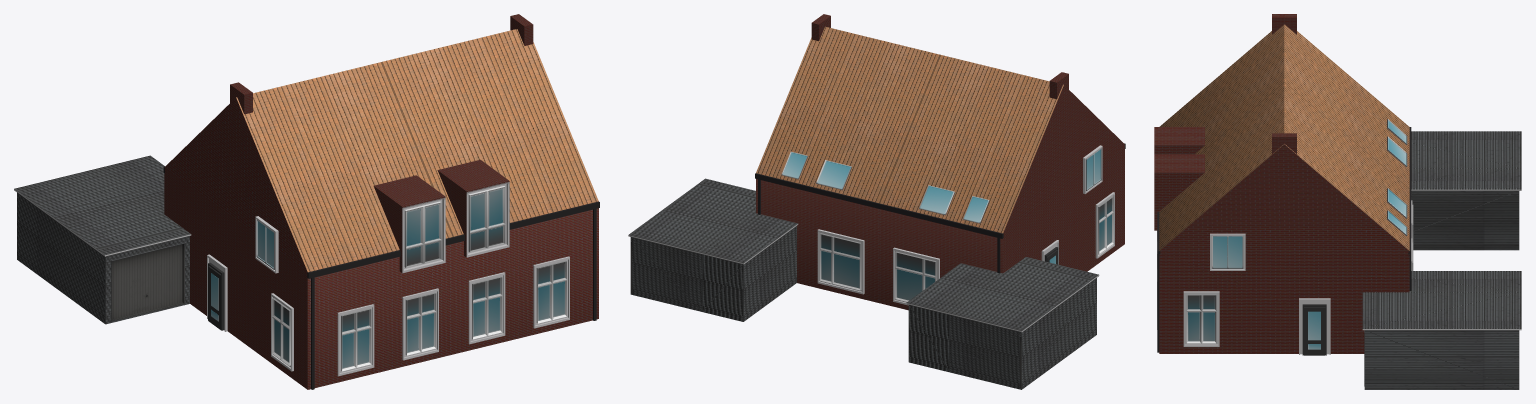
File: Stjelp11.fbx
3 renders of one model, left to right at view 1: azimuth 30°, elevation 25°; view 2: azimuth 150°, elevation 25°; view 3: azimuth 270°, elevation 25°, orthographic. The views are drawn at different scales.
Visible parts, largest first — view 1: Stjelp_11; view 2: Stjelp_11; view 3: Stjelp_11.
Boxes of the visible parts, x1,y1,x2,y2 form: Stjelp_11: [14, 14, 599, 389]; Stjelp_11: [628, 14, 1125, 389]; Stjelp_11: [1154, 14, 1521, 389].
Size of the model in its own units: 18.8 by 9.59 by 14.75.
Materials: 1 (1 with a texture image).
